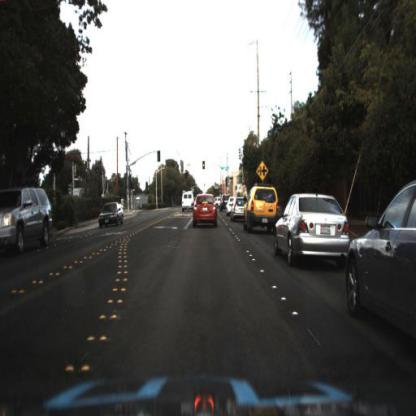car: (346, 178, 416, 346), (271, 191, 350, 274), (1, 185, 55, 258), (189, 187, 223, 236), (245, 182, 279, 230), (95, 201, 127, 232), (179, 187, 197, 217), (233, 192, 246, 224), (220, 192, 232, 215)
trafficLight: (203, 156, 209, 178), (184, 166, 191, 181)
